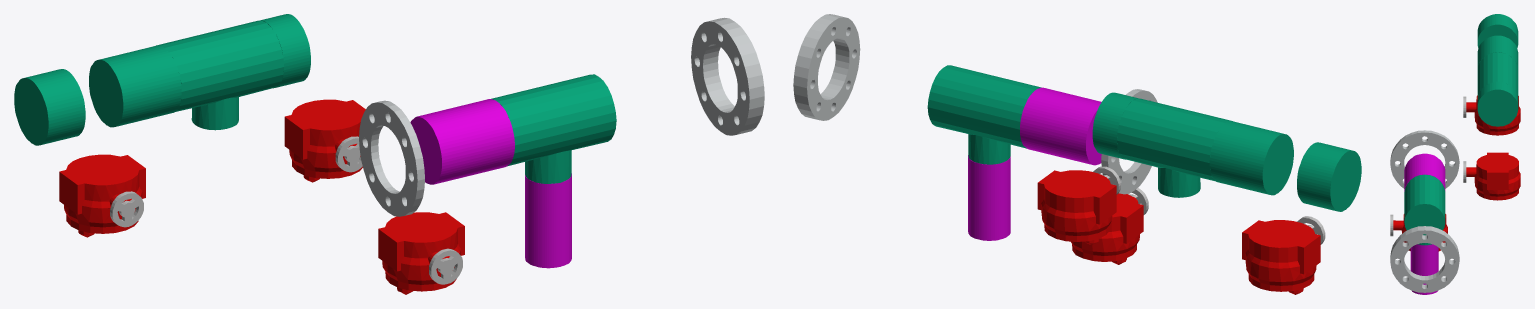
The picture shows the model from 3 angles, left to right: view 1: azimuth 30°, elevation 25°; view 2: azimuth 150°, elevation 25°; view 3: azimuth 270°, elevation 25°; orthographic projection. The views are drawn at different scales.
Size of the model in its own units: 1.8 by 0.6582 by 0.5368.
